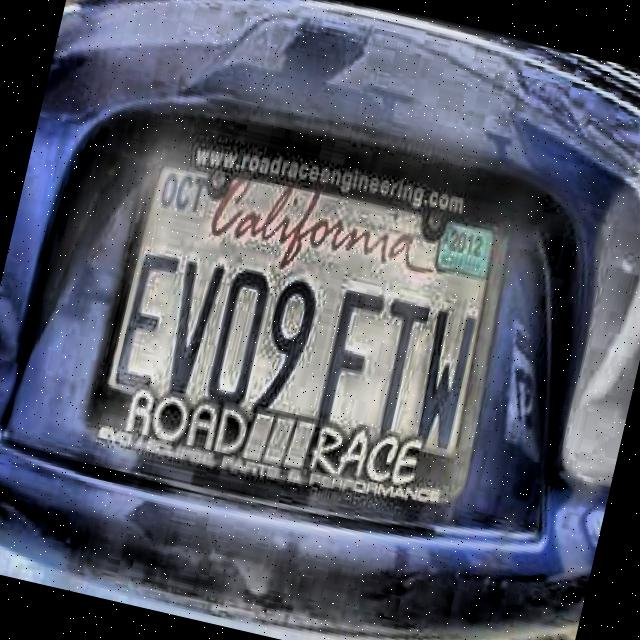license_plate: (92, 145, 513, 520)
